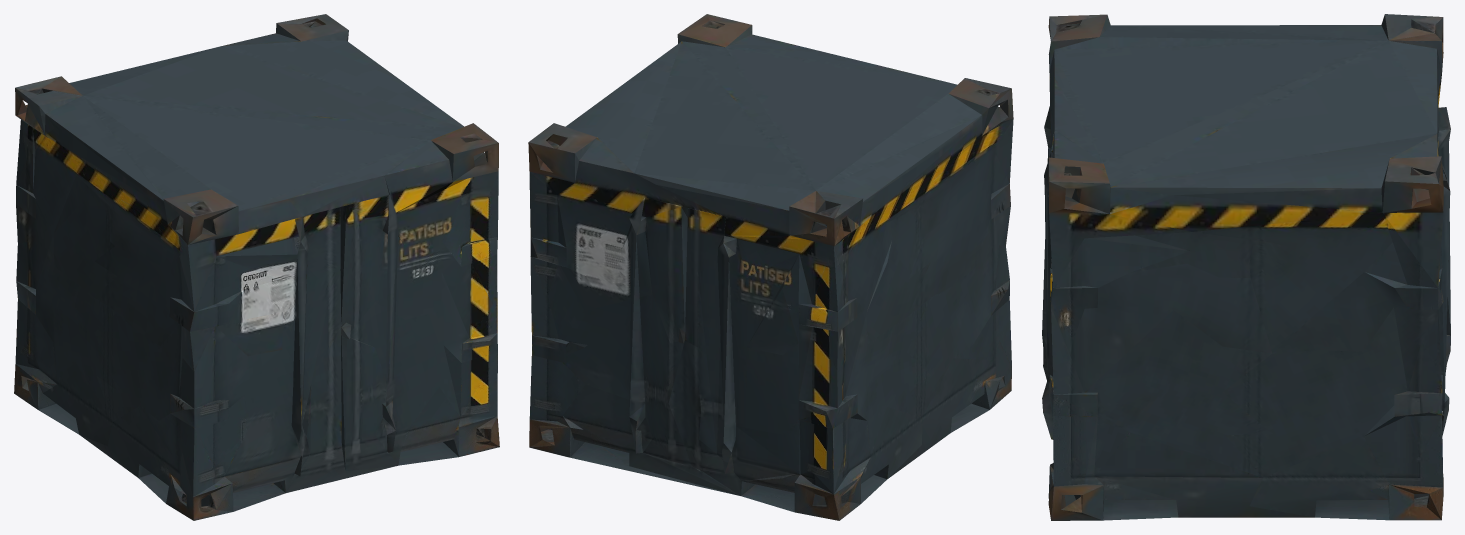
File: cargo_crate.glb
3 renders of one model, left to right at view 1: azimuth 30°, elevation 25°; view 2: azimuth 150°, elevation 25°; view 3: azimuth 270°, elevation 25°, orthographic. The views are drawn at different scales.
Bounding box in the file's own units: 1.17 × 1.1 × 1.2.
1 material, 1 textured.
